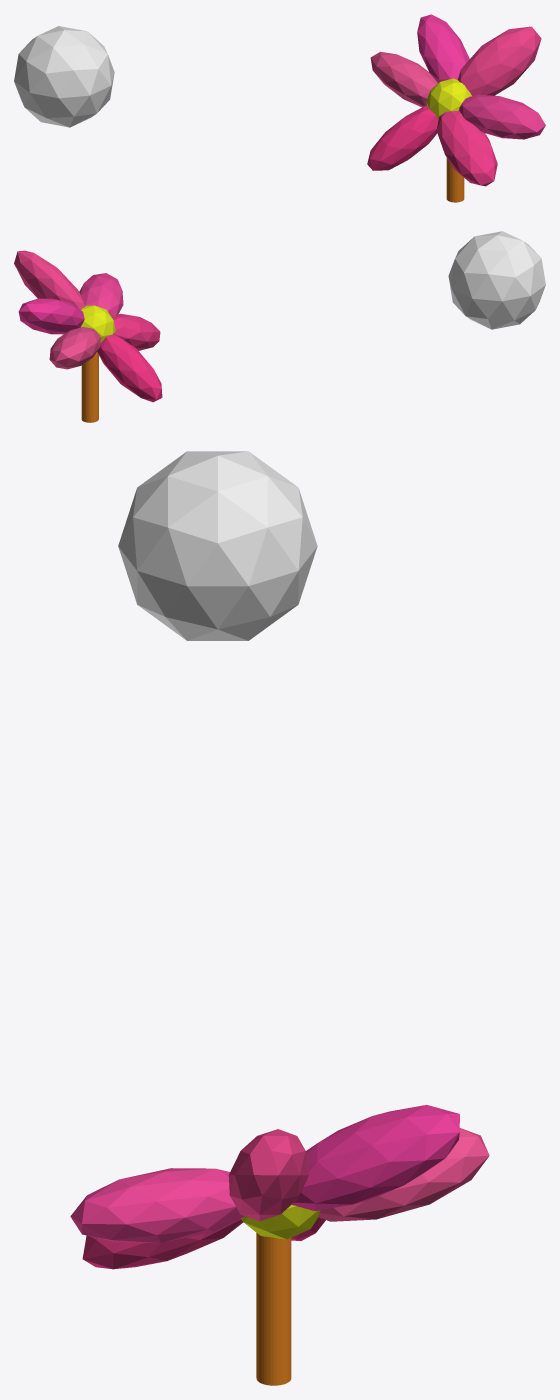
File: flowerb.glb
3 views of the same model, one above another, from view 1: azimuth 30°, elevation 25°; view 2: azimuth 150°, elevation 25°; view 3: azimuth 270°, elevation 25° (orthographic). The views are drawn at different scales.
Parts seen in each view (by area): view 1: Icosphere.003, Icosphere.006, Icosphere.010, Icosphere.005, Icosphere.002, Icosphere.009, Icosphere.007, Icosphere.008, Cylinder; view 2: Icosphere.003, Icosphere.002, Icosphere.006, Icosphere.009, Icosphere.007, Icosphere.005, Icosphere.010, Cylinder, Icosphere.008; view 3: Icosphere.003, Icosphere.009, Icosphere.005, Icosphere.006, Cylinder, Icosphere.007, Icosphere.010, Icosphere.008.
Part boxes in pixels (<box>): Icosphere.003: <box>14,26,114,127</box>; Icosphere.006: <box>458,26,541,95</box>; Icosphere.010: <box>436,110,497,186</box>; Icosphere.005: <box>459,94,545,139</box>; Icosphere.002: <box>367,105,438,170</box>; Icosphere.009: <box>417,14,469,83</box>; Icosphere.007: <box>370,51,437,107</box>; Icosphere.008: <box>426,78,471,118</box>; Cylinder: <box>446,158,464,202</box>; Icosphere.003: <box>448,231,545,329</box>; Icosphere.002: <box>97,334,162,402</box>; Icosphere.006: <box>14,250,85,309</box>; Icosphere.009: <box>18,298,84,334</box>; Icosphere.007: <box>49,327,100,369</box>; Icosphere.005: <box>79,273,123,317</box>; Icosphere.010: <box>112,313,160,350</box>; Cylinder: <box>81,352,98,422</box>; Icosphere.008: <box>81,305,115,342</box>; Icosphere.003: <box>118,451,317,640</box>; Icosphere.009: <box>292,1105,459,1210</box>; Icosphere.005: <box>70,1168,244,1242</box>; Icosphere.006: <box>228,1129,308,1221</box>; Cylinder: <box>256,1233,291,1385</box>; Icosphere.007: <box>318,1128,489,1221</box>; Icosphere.010: <box>82,1218,243,1269</box>; Icosphere.008: <box>241,1204,320,1239</box>.
Bounding box in the file's own units: 11.87 × 5.96 × 4.2.
